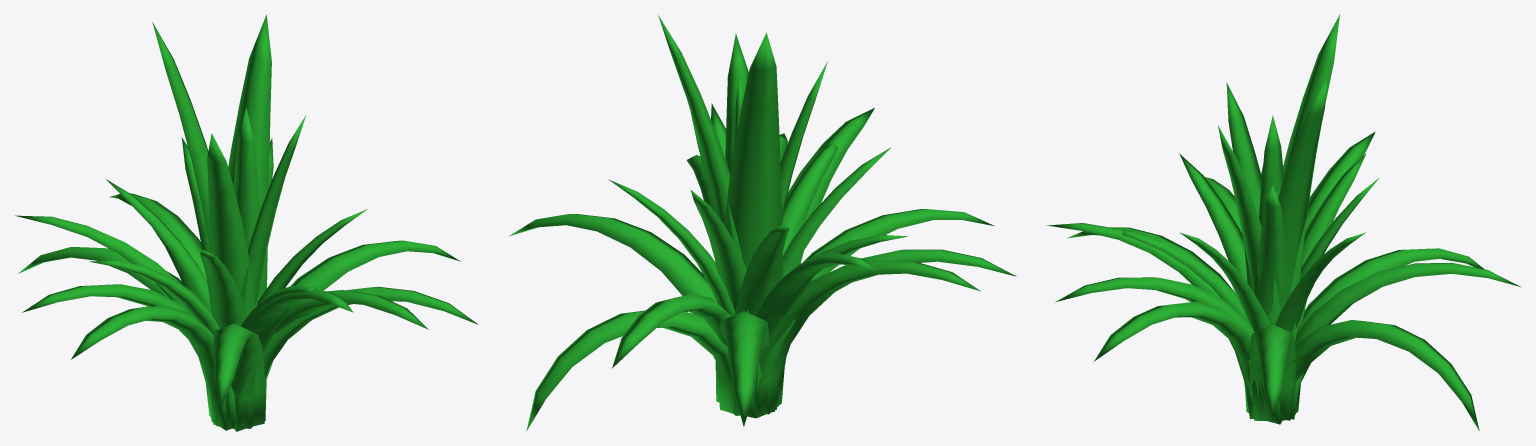
3 views of the same model, side by side, from view 1: azimuth 30°, elevation 25°; view 2: azimuth 150°, elevation 25°; view 3: azimuth 270°, elevation 25° (orthographic). The views are drawn at different scales.
Visible parts, largest first — view 1: Box009; view 2: Box009; view 3: Box009, Box018.
Boxes of the visible parts, x1,y1,x2,y2 form: Box009: [15, 14, 478, 431]; Box009: [509, 15, 1016, 431]; Box009: [1046, 14, 1521, 430]; Box018: [1257, 185, 1290, 304].
Size of the model in its own units: 952 by 795 by 917.
